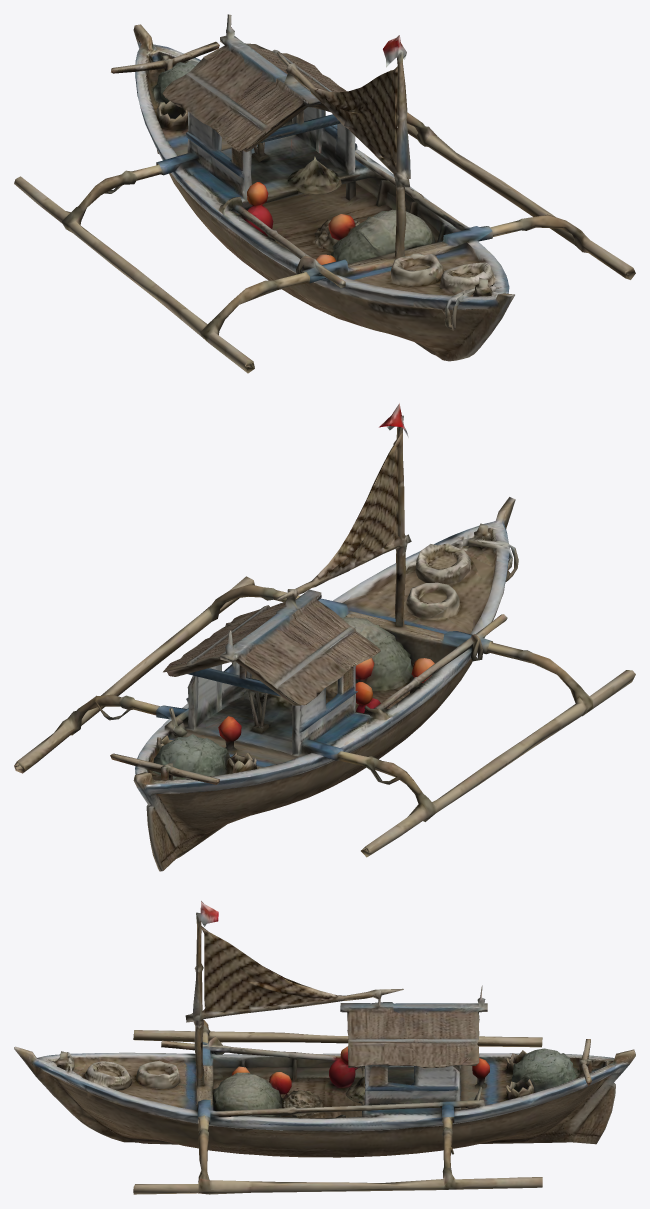
Rendered from perahu_nelayan.glb.
3 renders of one model, top to bottom at view 1: azimuth 30°, elevation 25°; view 2: azimuth 150°, elevation 25°; view 3: azimuth 270°, elevation 25°, orthographic. The views are drawn at different scales.
Parts seen in each view (by area): view 1: tripo_node_2ca7459d-3c0c-4443-a3cc-08055cd2aacd; view 2: tripo_node_2ca7459d-3c0c-4443-a3cc-08055cd2aacd; view 3: tripo_node_2ca7459d-3c0c-4443-a3cc-08055cd2aacd.
Part boxes in pixels (x1,y1,x2,y2): tripo_node_2ca7459d-3c0c-4443-a3cc-08055cd2aacd: (14, 14, 635, 373); tripo_node_2ca7459d-3c0c-4443-a3cc-08055cd2aacd: (14, 403, 635, 871); tripo_node_2ca7459d-3c0c-4443-a3cc-08055cd2aacd: (14, 901, 635, 1194).
Size of the model in its own units: 0.6015 by 0.4345 by 1.
Materials: 1 (1 with a texture image).
